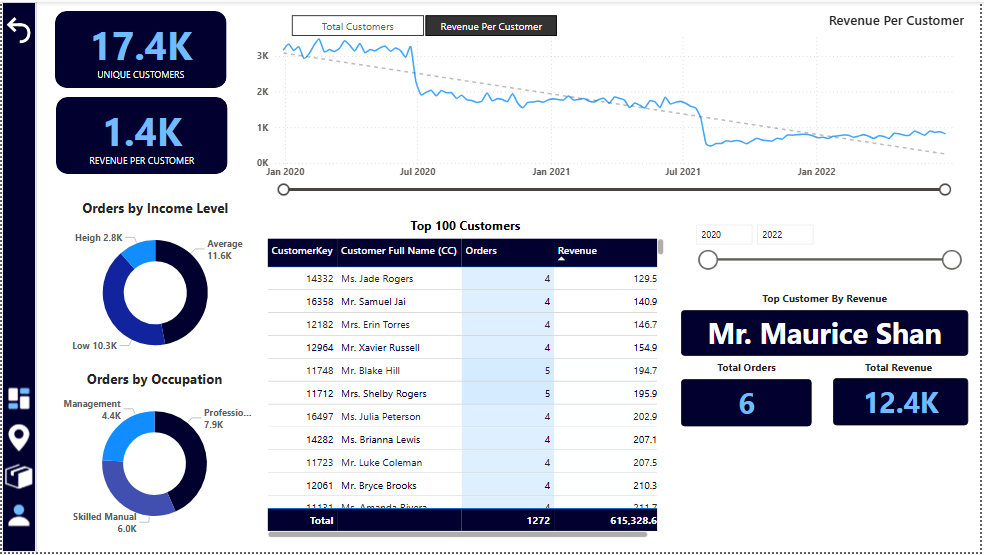

What the dashboard file says about the page in this screenshot:
{"tool":"powerbi","page":{"name":"Customer Detail","canvas":[1280,720],"ordinal":3},"visuals":[{"type":"shape","box":[0,0,45,720],"z":0},{"type":"actionButton","box":[0,542.4,44.3,57.1],"z":0,"group":"g1"},{"type":"shape","box":[69.1,11.5,224.6,100.8],"z":1000},{"type":"actionButton","box":[0,491.4,44.3,57.1],"z":1000,"group":"g1"},{"type":"shape","box":[70.6,123.8,224.6,100.8],"z":2000},{"type":"actionButton","box":[0,644.3,44.3,57.1],"z":2000,"group":"g1"},{"type":"card","fields":{"Values":["Measure Table.Average Revenue Per Customer"]},"box":[70.6,123.8,224.6,100.8],"z":3000},{"type":"actionButton","box":[0,593.3,44.3,57.1],"z":3000,"group":"g1"},{"type":"card","fields":{"Values":["Measure Table.Total Customers"]},"box":[69.1,11.5,224.6,100.8],"z":4000},{"type":"lineChart","fields":{"Category":["Calendar Lookup.Date Hierarchy.Start of Year","Calendar Lookup.Date Hierarchy.Start of Month","Calendar Lookup.Date Hierarchy.Start of Week","Calendar Lookup.Date Hierarchy.Date"],"Y":["Measure Table.Average Revenue Per Customer"]},"box":[328.3,10.1,936,246.2],"z":5000},{"type":"donutChart","title":"Orders by Income Level","fields":{"Category":["Customer Lookup.Income Level"],"Y":["Measure Table.Total Orders"]},"box":[69.2,256.3,262.6,224.9],"z":6000},{"type":"donutChart","title":"Orders by Occupation","fields":{"Category":["Customer Lookup.Occupation"],"Y":["Measure Table.Total Orders"]},"box":[69.1,481,260.6,224.6],"z":7000},{"type":"tableEx","title":"Top 100 Customers","fields":{"Values":["Sales Data.CustomerKey","Customer Lookup.Customer Full Name (CC)","Measure Table.Total Orders","Measure Table.Total Revenue"]},"box":[341.3,280.8,529.9,424.8],"z":8000},{"type":"card","fields":{"Values":["Measure Table.Full Name (Customer Detail)"]},"box":[888.5,403.2,375.8,60.5],"z":9000},{"type":"card","fields":{"Values":["Measure Table.Total Orders (Customer Detail)"]},"box":[888.5,493.9,171.4,61.9],"z":10000},{"type":"card","fields":{"Values":["Measure Table.Total Revenue (Customer Detail)"]},"box":[1087.2,492.5,177.1,61.9],"z":11000},{"type":"textbox","box":[888.5,373,375.8,30.2],"z":12000},{"type":"textbox","box":[888.5,463.7,171.4,30.2],"z":13000},{"type":"textbox","box":[1087.2,463.7,171.4,30.2],"z":14000},{"type":"slicer","fields":{"Values":["Calendar Lookup.Year"]},"box":[895.7,281.4,368.6,87.1],"z":15000},{"type":"actionButton","box":[0,10,44.3,51.4],"z":16000},{"type":"group","id":"g1","title":"Navigation Buttons","box":[0,491.4,44.3,210],"z":17000},{"type":"slicer","fields":{"Values":["Customer Metrics Selection.Customer Metrics Selection"]},"box":[352.8,10.1,397.4,36],"z":17501}]}

Visuals, with their boxes on the page's 1280x720 design canvas (x1, y1, x2, y2). These are canvas units, not pixel positions in the 984x555 screenshot, which may show the page scaled, cropped or inside an application window:
shape: select_region(0, 0, 45, 720)
actionButton: select_region(0, 542, 44, 600)
shape: select_region(69, 12, 294, 112)
actionButton: select_region(0, 491, 44, 548)
shape: select_region(71, 124, 295, 225)
actionButton: select_region(0, 644, 44, 701)
card - Measure Table.Average Revenue Per Customer: select_region(71, 124, 295, 225)
actionButton: select_region(0, 593, 44, 650)
card - Measure Table.Total Customers: select_region(69, 12, 294, 112)
lineChart - Calendar Lookup.Date Hierarchy.Start of Year x Calendar Lookup.Date Hierarchy.Start of Month: select_region(328, 10, 1264, 256)
"Orders by Income Level" donutChart: select_region(69, 256, 332, 481)
"Orders by Occupation" donutChart: select_region(69, 481, 330, 706)
"Top 100 Customers" tableEx: select_region(341, 281, 871, 706)
card - Measure Table.Full Name (Customer Detail): select_region(888, 403, 1264, 464)
card - Measure Table.Total Orders (Customer Detail): select_region(888, 494, 1060, 556)
card - Measure Table.Total Revenue (Customer Detail): select_region(1087, 492, 1264, 554)
textbox: select_region(888, 373, 1264, 403)
textbox: select_region(888, 464, 1060, 494)
textbox: select_region(1087, 464, 1259, 494)
slicer - Calendar Lookup.Year: select_region(896, 281, 1264, 368)
actionButton: select_region(0, 10, 44, 61)
"Navigation Buttons" group: select_region(0, 491, 44, 701)
slicer - Customer Metrics Selection.Customer Metrics Selection: select_region(353, 10, 750, 46)
